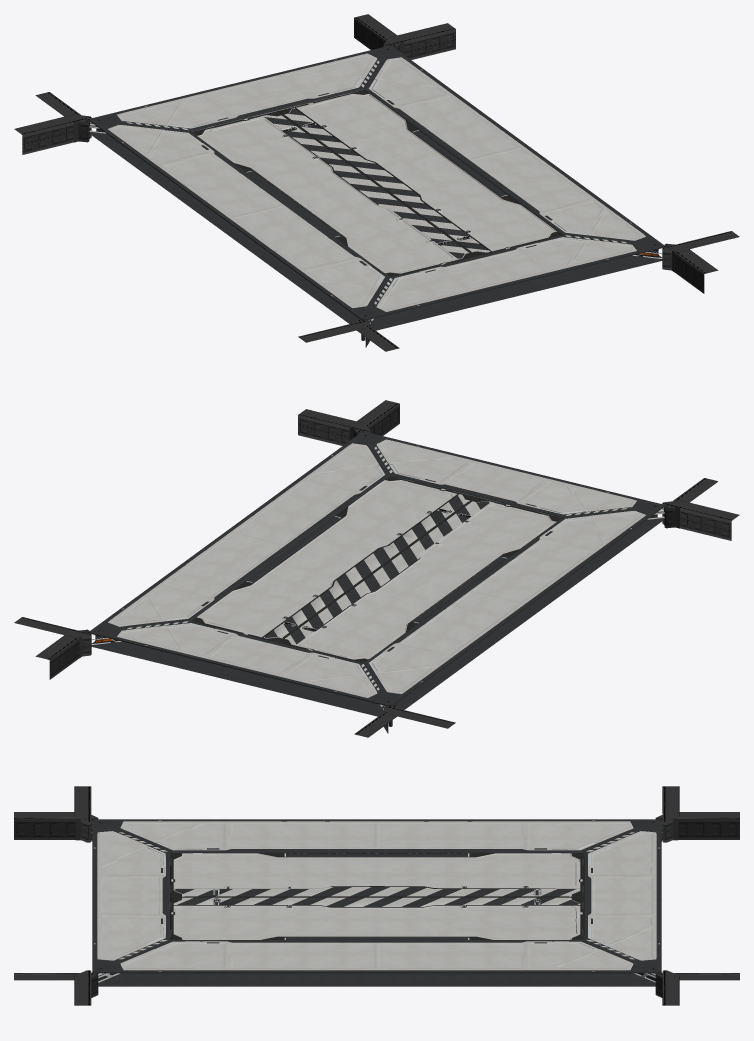
File: medtop-tor.glb
3 views of the same model, one above another, from view 1: azimuth 30°, elevation 25°; view 2: azimuth 150°, elevation 25°; view 3: azimuth 270°, elevation 25° (orthographic). The views are drawn at different scales.
Visible parts, largest first — view 1: gate_11, gate_6, gate_16, gate_17, gate_7, gate_8, gate_13, gate_12, gate_3, gate_5, gate_2, gate_4; view 2: gate_11, gate_6, gate_17, gate_16, gate_7, gate_8, gate_13, gate_12, gate_3, gate_5, gate_4, gate_2; view 3: gate_6, gate_11, gate_17, gate_16, gate_13, gate_12, gate_8, gate_7, gate_2, gate_4, gate_5, gate_3.
Part boxes in pixels (bbox=[...]): gate_11: bbox=[88, 119, 390, 323]; gate_6: bbox=[363, 45, 665, 259]; gate_16: bbox=[363, 235, 665, 330]; gate_17: bbox=[89, 45, 390, 134]; gate_7: bbox=[321, 90, 561, 245]; gate_8: bbox=[277, 100, 518, 256]; gate_13: bbox=[234, 111, 474, 266]; gate_12: bbox=[192, 121, 432, 276]; gate_3: bbox=[383, 23, 739, 270]; gate_5: bbox=[14, 114, 370, 347]; gate_2: bbox=[35, 14, 399, 142]; gate_4: bbox=[354, 243, 718, 351]; gate_11: bbox=[364, 505, 665, 709]; gate_6: bbox=[88, 431, 390, 645]; gate_17: bbox=[88, 621, 390, 716]; gate_16: bbox=[363, 431, 664, 520]; gate_7: bbox=[192, 476, 432, 631]; gate_8: bbox=[235, 486, 476, 642]; gate_13: bbox=[279, 497, 519, 652]; gate_12: bbox=[321, 507, 561, 662]; gate_3: bbox=[14, 409, 370, 656]; gate_5: bbox=[383, 500, 739, 733]; gate_4: bbox=[354, 400, 717, 528]; gate_2: bbox=[35, 629, 399, 737]; gate_6: bbox=[92, 939, 661, 986]; gate_11: bbox=[93, 819, 660, 853]; gate_17: bbox=[583, 819, 662, 983]; gate_16: bbox=[91, 819, 170, 983]; gate_13: bbox=[170, 875, 583, 897]; gate_12: bbox=[170, 853, 583, 875]; gate_8: bbox=[170, 897, 583, 919]; gate_7: bbox=[170, 918, 583, 939]; gate_2: bbox=[655, 812, 739, 997]; gate_4: bbox=[14, 812, 98, 997]; gate_5: bbox=[74, 786, 679, 842]; gate_3: bbox=[74, 970, 679, 1005].
Size of the model in its own units: 80.26 by 3.63 by 112.
Materials: 8 (7 with a texture image).
